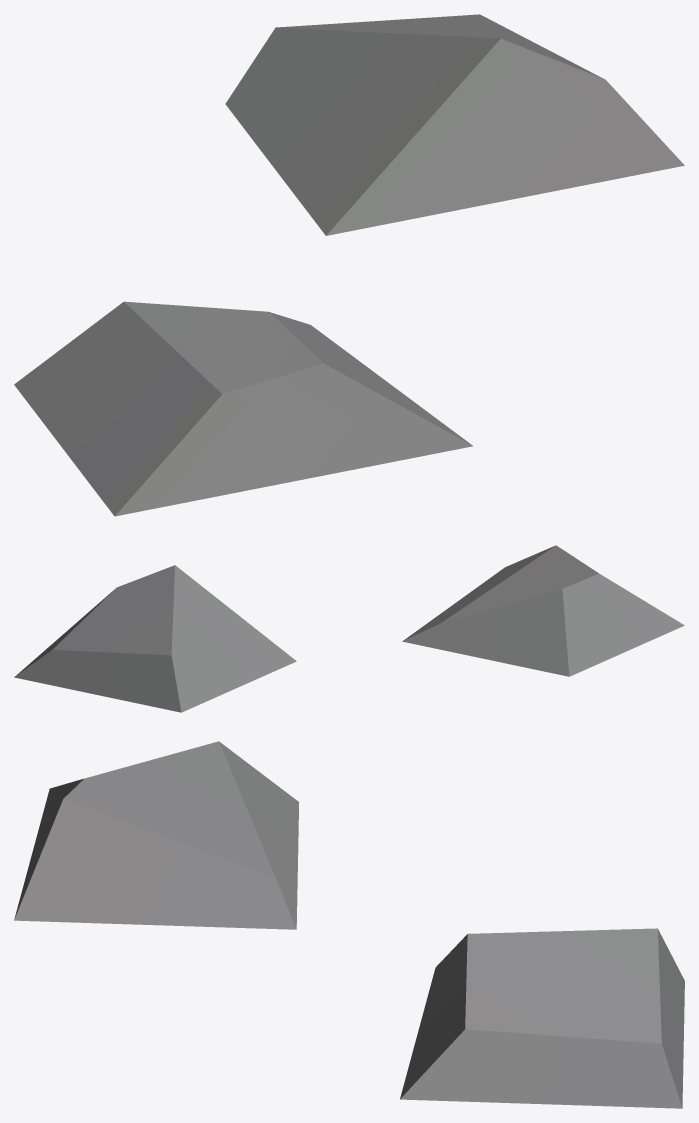
The model's file is stone_3.glb.
The picture shows the model from 3 angles, top to bottom: view 1: azimuth 30°, elevation 25°; view 2: azimuth 150°, elevation 25°; view 3: azimuth 270°, elevation 25°; orthographic projection. The views are drawn at different scales.
Parts seen in each view (by area): view 1: Cone.001; view 2: Cone.001; view 3: Cone.001.
Boxes of the visible parts, x1,y1,x2,y2 form: Cone.001: [14, 14, 684, 516]; Cone.001: [14, 545, 684, 712]; Cone.001: [14, 741, 684, 1108].
Size of the model in its own units: 2.37 by 0.3957 by 2.11.
Materials: 1 (1 with a texture image).
